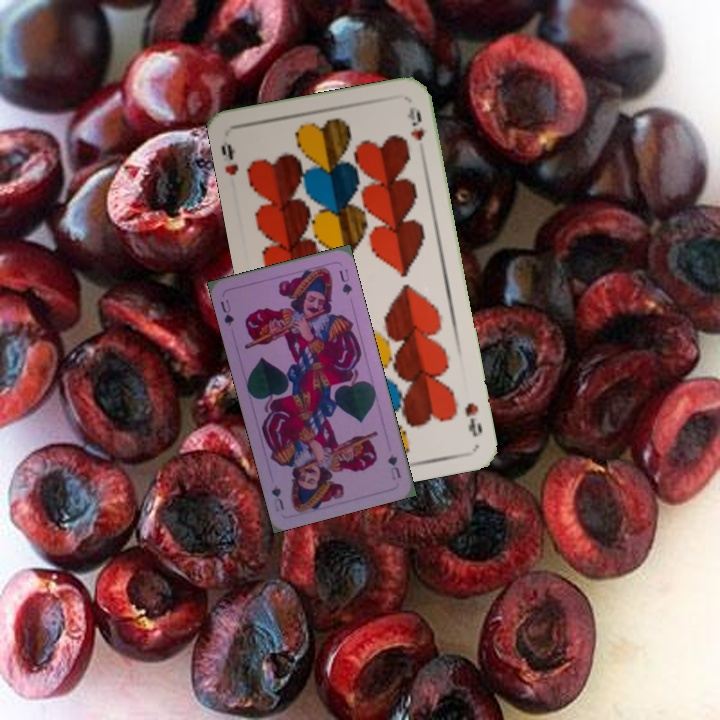GU: (216, 295, 237, 328), (384, 450, 403, 483)
H9: (460, 398, 485, 440), (217, 139, 241, 178)
